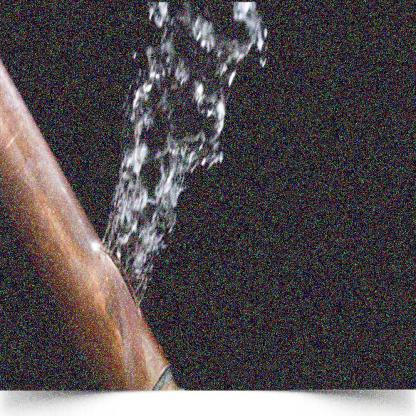burst: (70, 225, 180, 340)
